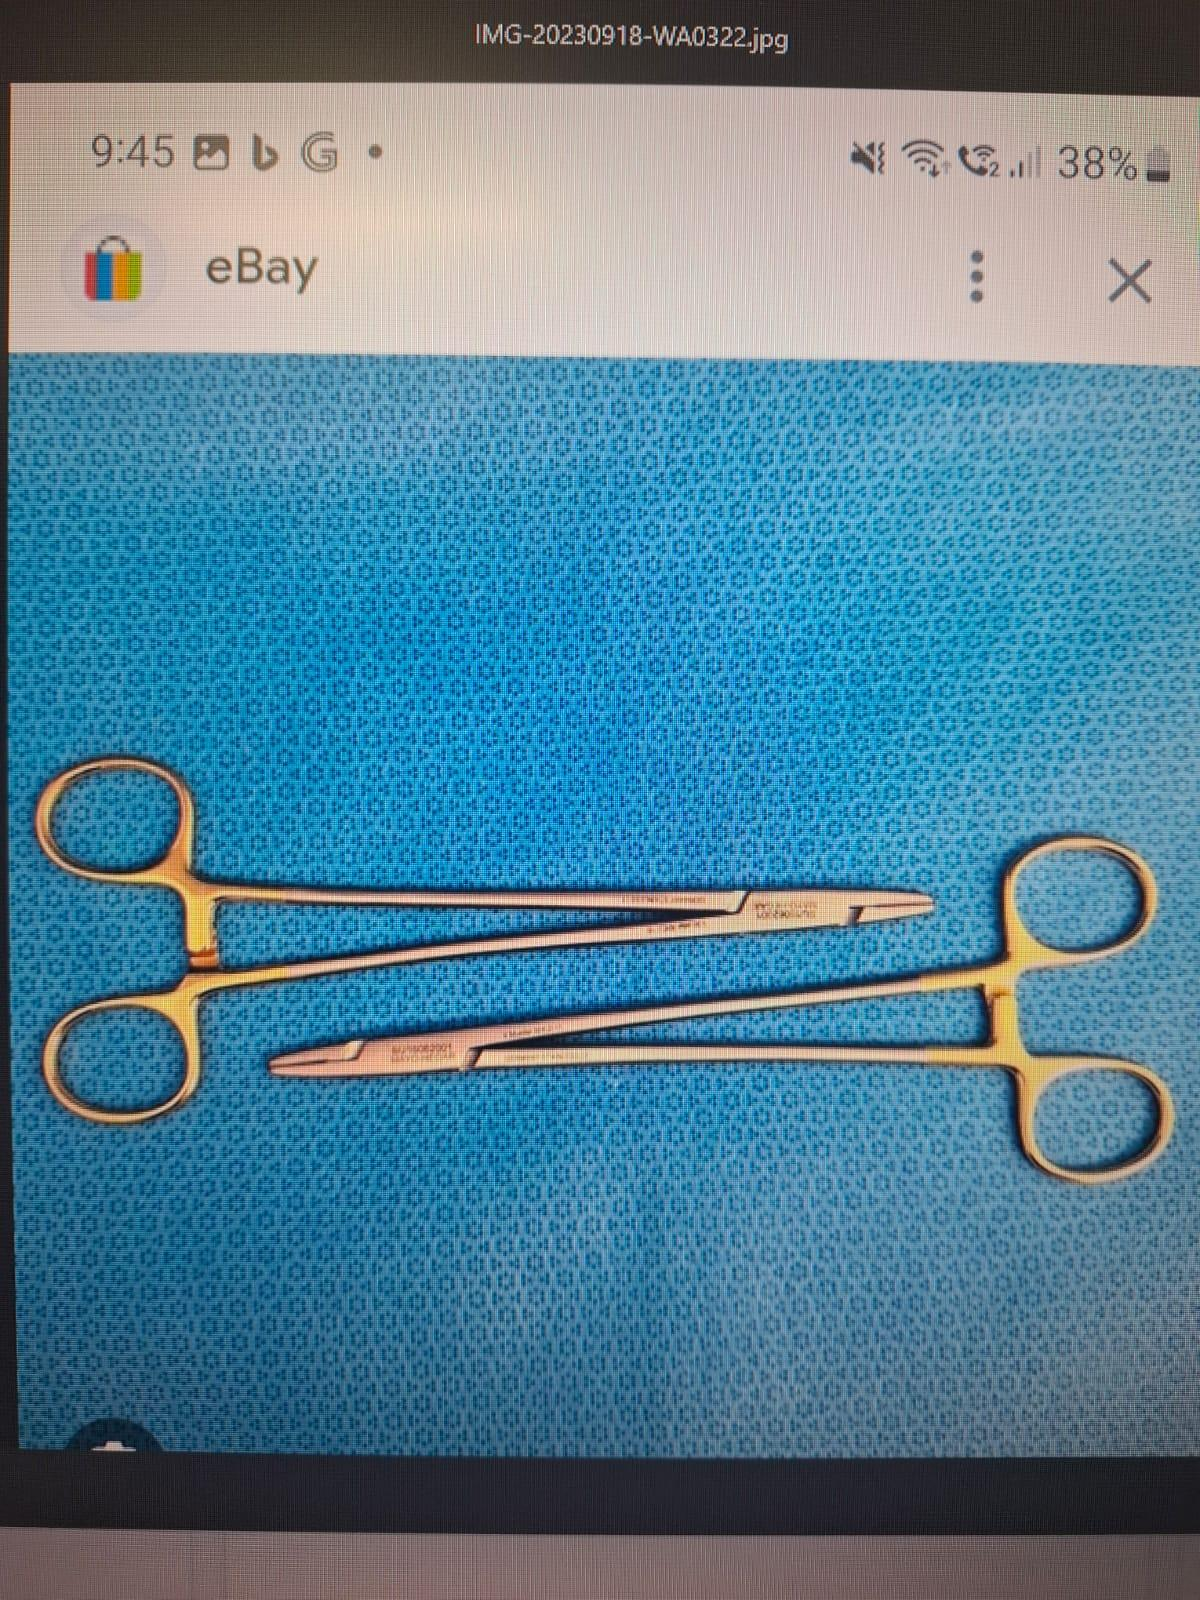Needle Holder: (10, 734, 955, 1143), (262, 828, 1187, 1202)
